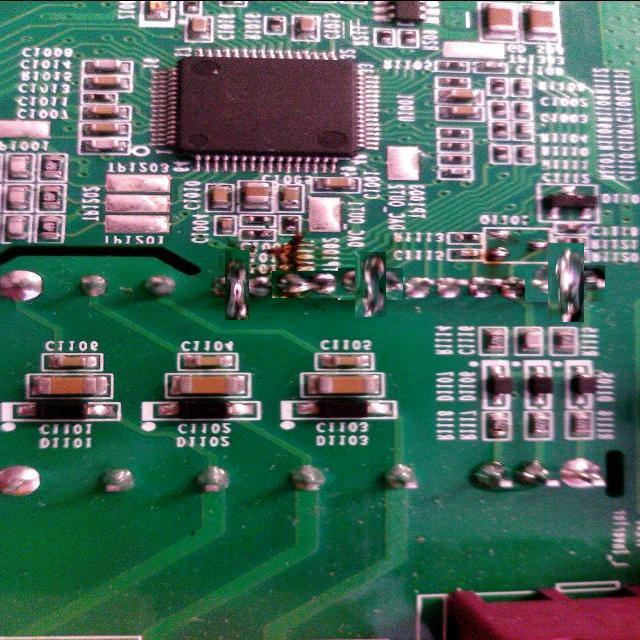Short_circuit: (536, 254, 595, 313), (346, 260, 395, 309), (213, 262, 260, 309), (272, 272, 340, 300)
